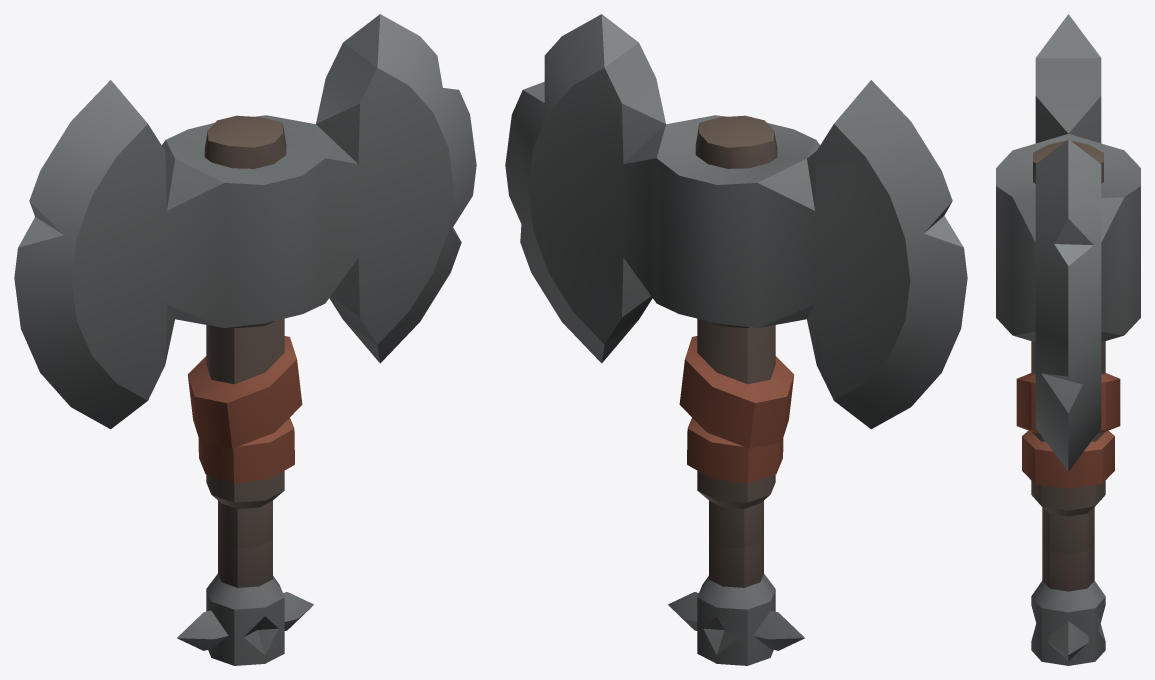
File: XS_Skeleton_Axe.glb
The picture shows the model from 3 angles, left to right: view 1: azimuth 30°, elevation 25°; view 2: azimuth 150°, elevation 25°; view 3: azimuth 270°, elevation 25°; orthographic projection. The views are drawn at different scales.
Parts seen in each view (by area): view 1: Skeleton_Axe; view 2: Skeleton_Axe; view 3: Skeleton_Axe.
Boxes of the visible parts, <box> form: Skeleton_Axe: <box>14,14,476,665</box>; Skeleton_Axe: <box>505,14,967,665</box>; Skeleton_Axe: <box>996,14,1140,665</box>.
Size of the model in its own units: 0.9885 by 1.25 by 0.2818.
